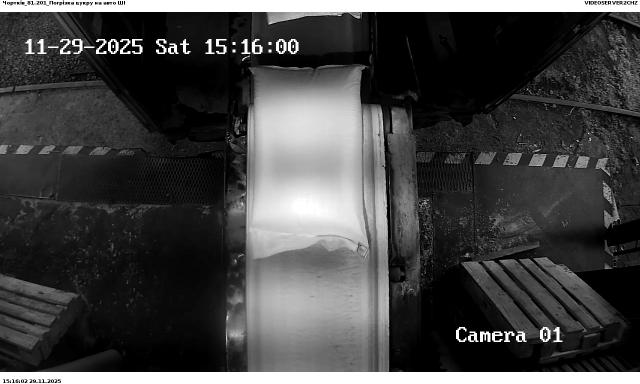bag: (250, 64, 369, 260), (268, 11, 366, 26)
